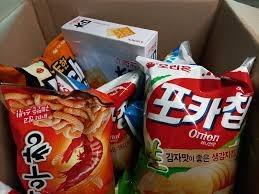snack: (136, 54, 257, 194), (0, 84, 116, 194)
